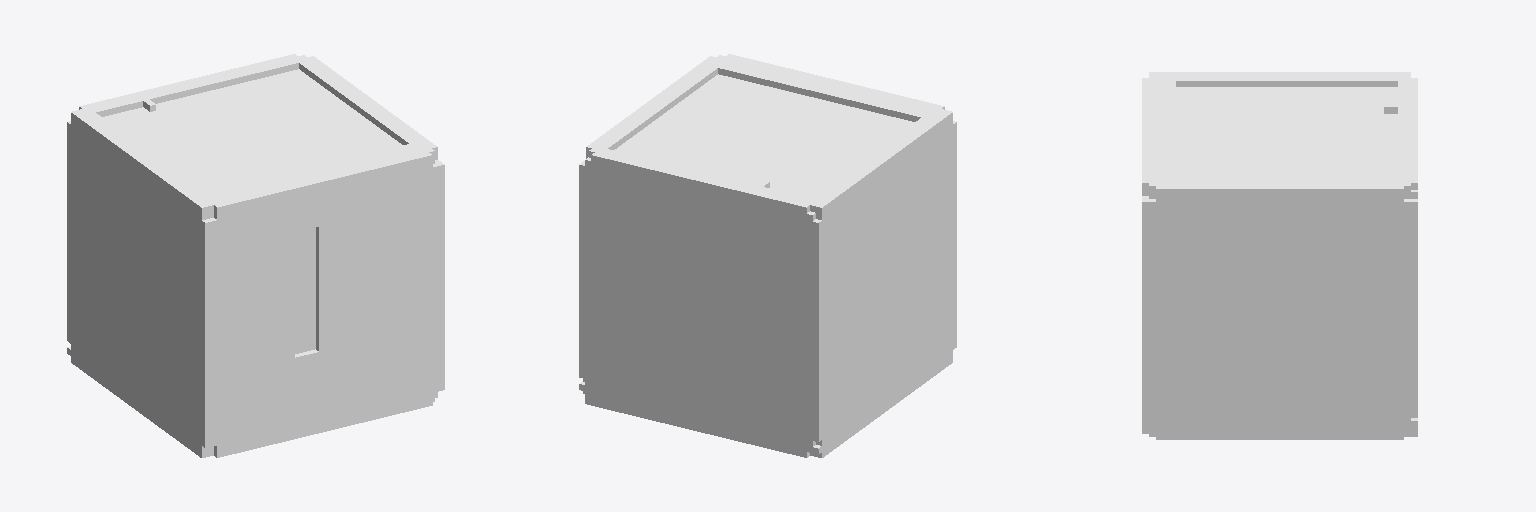
File: collectorcube.obj
3 renders of one model, left to right at view 1: azimuth 30°, elevation 25°; view 2: azimuth 150°, elevation 25°; view 3: azimuth 270°, elevation 25°, orthographic.
Parts seen in each view (by area): view 1: object 1; view 2: object 1; view 3: object 1.
Part boxes in pixels (x1,y1,x2,y2): object 1: (67, 54, 444, 457); object 1: (579, 54, 956, 457); object 1: (1142, 72, 1417, 439).
Size of the model in its own units: 4 by 4 by 4.